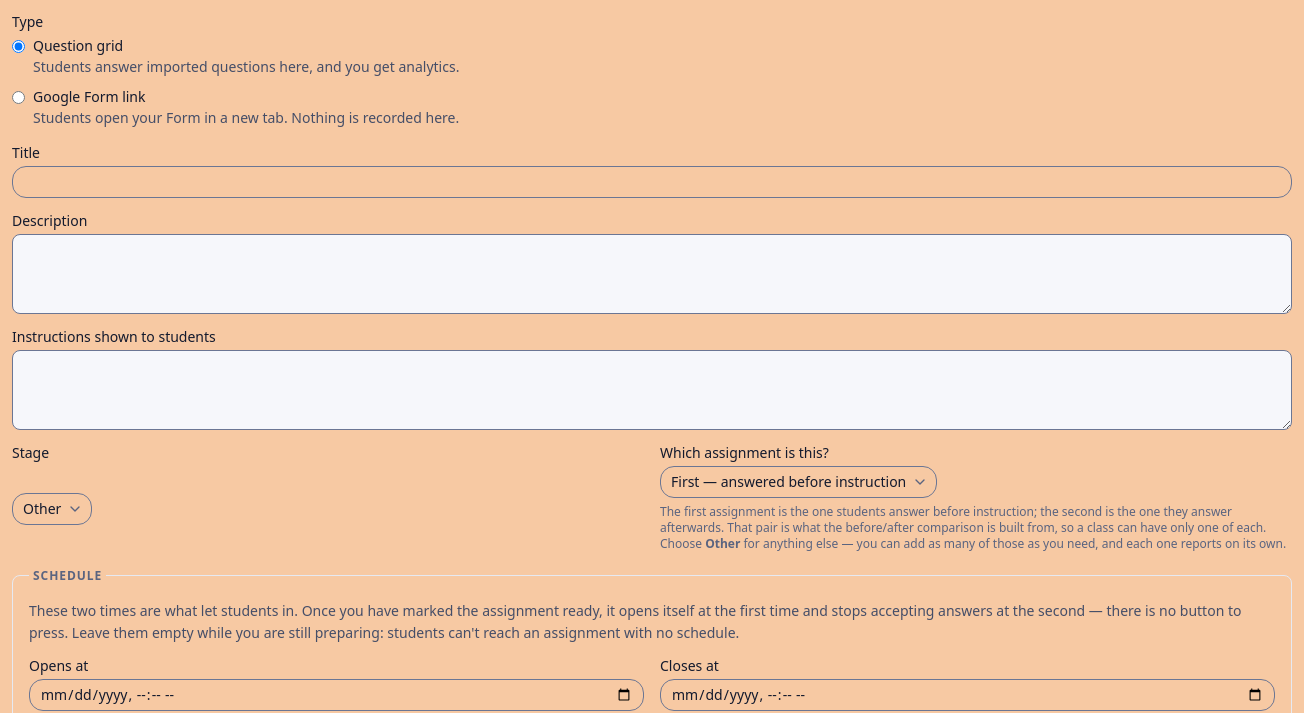
Test case: AssignmentForm type choice › choosing a Google Form link shows one URL field and the two notes, and hides the grid-only fields
The image size is (1304, 713).
Click the radio button labelled "Google Form link" at (18, 97), box x1=12 y1=91 x2=25 y2=104
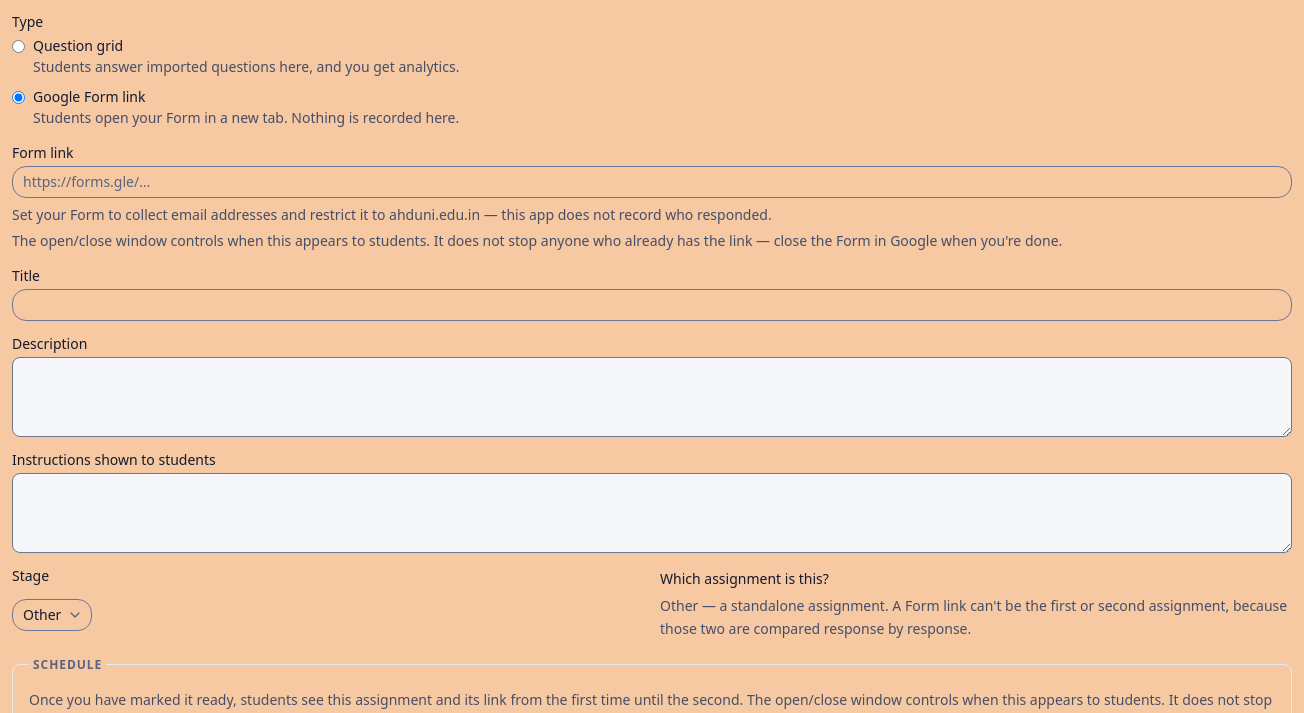
Expected: the field labelled "Form link" is shown, x1=12 y1=166 x2=1292 y2=198
Expected: the text "The open/close window controls when this appears to students. It does not stop anyone who already has the link — close t" is shown, x1=12 y1=231 x2=1062 y2=250
Expected: the text "A Form link can.t be the first or second assignment" is shown, x1=660 y1=596 x2=1287 y2=638
